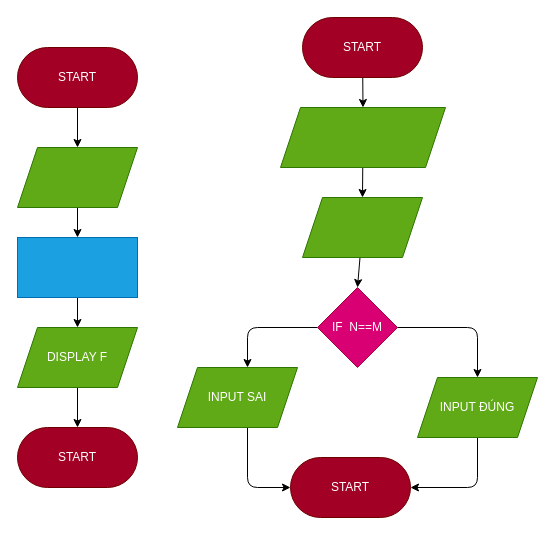
Image size: 555x535. Some labels were removed from this diagram. Here are the shapes that lost their labels. From the top down, the box of each, then its label:
(280, 106, 446, 168): INPUT N RANDOM (0-9)
(16, 146, 138, 208): INPUT C
(302, 196, 422, 258): INPUT M
(16, 236, 138, 298): F = (9*C) / 5+32
